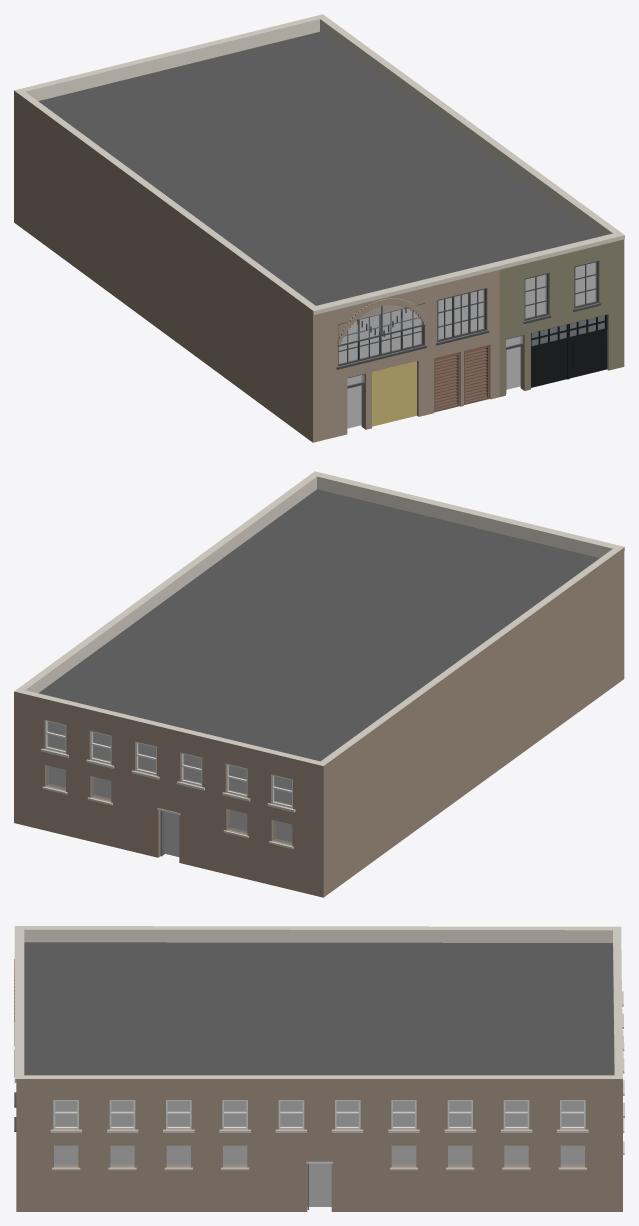
The model's file is exterior.glb.
The picture shows the model from 3 angles, top to bottom: view 1: azimuth 30°, elevation 25°; view 2: azimuth 150°, elevation 25°; view 3: azimuth 270°, elevation 25°; orthographic projection.
Visible parts, largest first — view 1: roof, shell, storefront, shadow-proxy, glazing, frames, arch-heads-0, relief-0, trim; view 2: shell, roof, glazing, shadow-proxy, frames, trim; view 3: shell, roof, glazing, shadow-proxy, frames, trim, relief-0.
Part boxes in pixels (x1=…): roof: x1=38, y1=31, x2=599, y2=305; shell: x1=14, y1=14, x2=624, y2=442; storefront: x1=347, y1=314, x2=607, y2=426; shadow-proxy: x1=339, y1=263, x2=604, y2=428; glazing: x1=338, y1=262, x2=604, y2=385; frames: x1=338, y1=260, x2=598, y2=366; arch-heads-0: x1=337, y1=298, x2=426, y2=346; relief-0: x1=312, y1=235, x2=624, y2=314; trim: x1=336, y1=303, x2=601, y2=369; shell: x1=14, y1=472, x2=624, y2=897; roof: x1=38, y1=489, x2=599, y2=761; glazing: x1=46, y1=721, x2=292, y2=844; shadow-proxy: x1=49, y1=722, x2=291, y2=856; frames: x1=45, y1=720, x2=292, y2=808; trim: x1=41, y1=748, x2=295, y2=849; shell: x1=16, y1=926, x2=622, y2=1211; roof: x1=24, y1=942, x2=614, y2=1075; glazing: x1=54, y1=1101, x2=584, y2=1166; shadow-proxy: x1=54, y1=1101, x2=584, y2=1206; frames: x1=53, y1=1100, x2=585, y2=1129; trim: x1=14, y1=991, x2=624, y2=1170; relief-0: x1=14, y1=926, x2=16, y2=1082.
Bounding box in the file's own units: 14.94 × 6.02 × 25.06.
